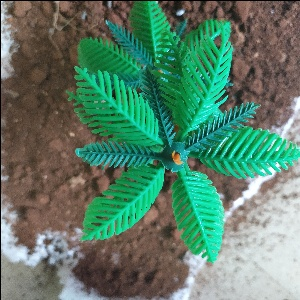plant: (68, 1, 300, 269)
